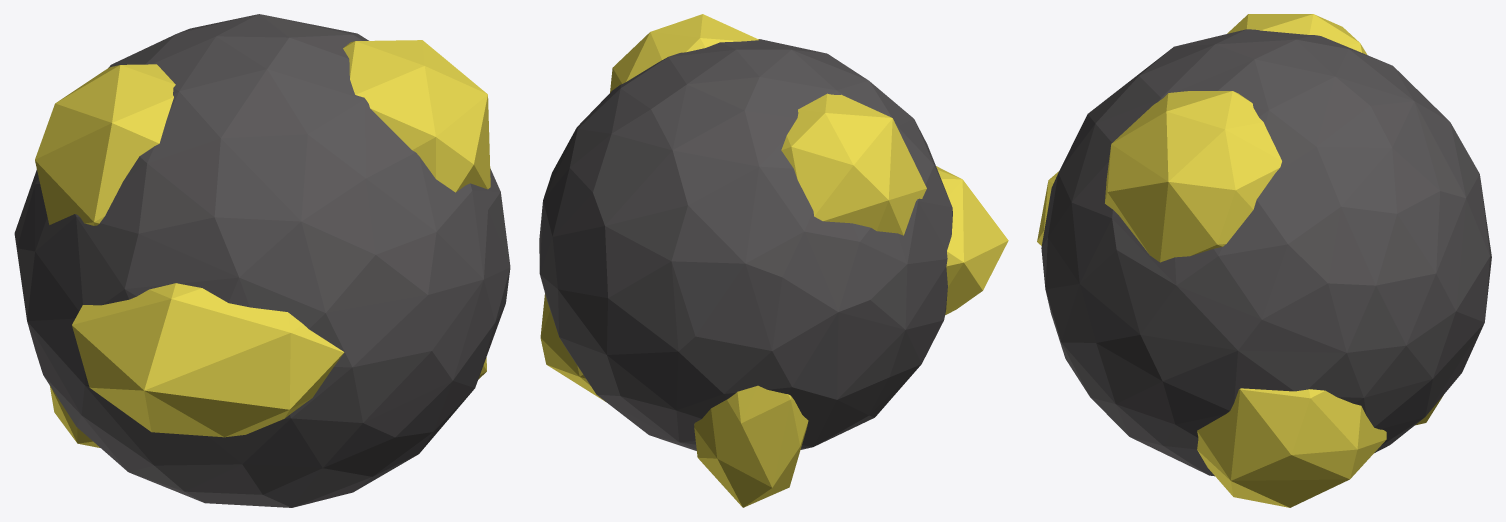
Rendered from ore_planet3.fbx.
The picture shows the model from 3 angles, left to right: view 1: azimuth 30°, elevation 25°; view 2: azimuth 150°, elevation 25°; view 3: azimuth 270°, elevation 25°; orthographic projection. The views are drawn at different scales.
Parts seen in each view (by area): view 1: ore_planet3; view 2: ore_planet3; view 3: ore_planet3.
Part boxes in pixels (x1,y1,x2,y2): ore_planet3: [14, 14, 510, 507]; ore_planet3: [539, 14, 1008, 507]; ore_planet3: [1037, 14, 1491, 507].
Bounding box in the file's own units: 211 × 200 × 201.
